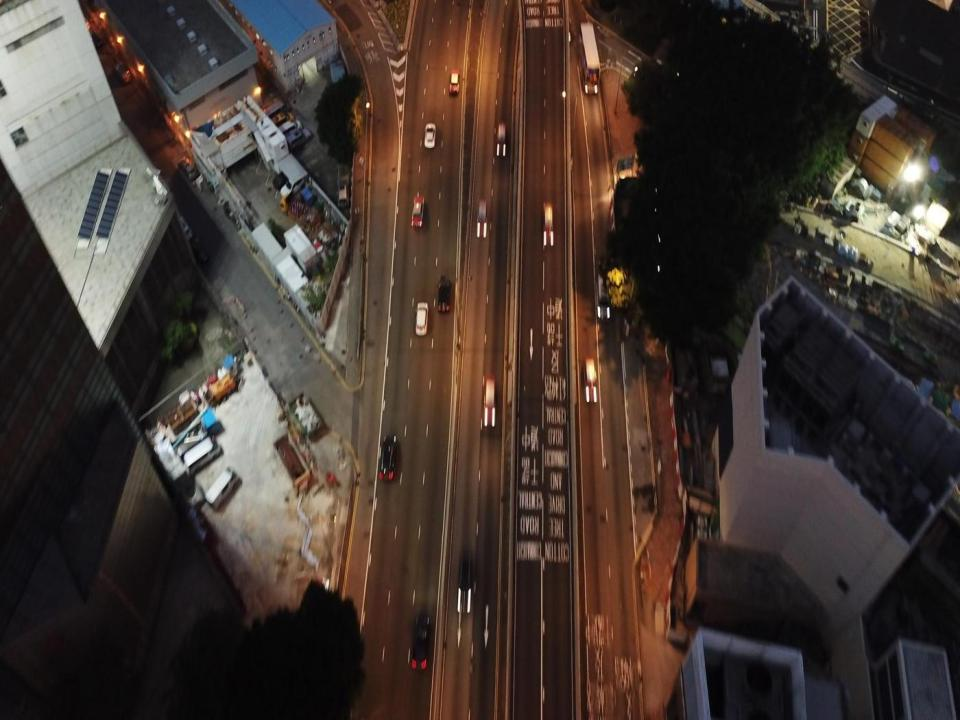bus: (581, 24, 602, 96)
car: (457, 548, 474, 614), (410, 615, 428, 671), (380, 435, 398, 482), (481, 376, 496, 428), (584, 356, 597, 403), (542, 203, 554, 246), (437, 277, 450, 314), (495, 123, 508, 158), (476, 198, 487, 238), (410, 196, 424, 226), (448, 67, 459, 95), (425, 122, 436, 149)
van: (183, 438, 220, 475), (206, 468, 239, 509), (596, 276, 612, 316), (416, 302, 427, 334)
